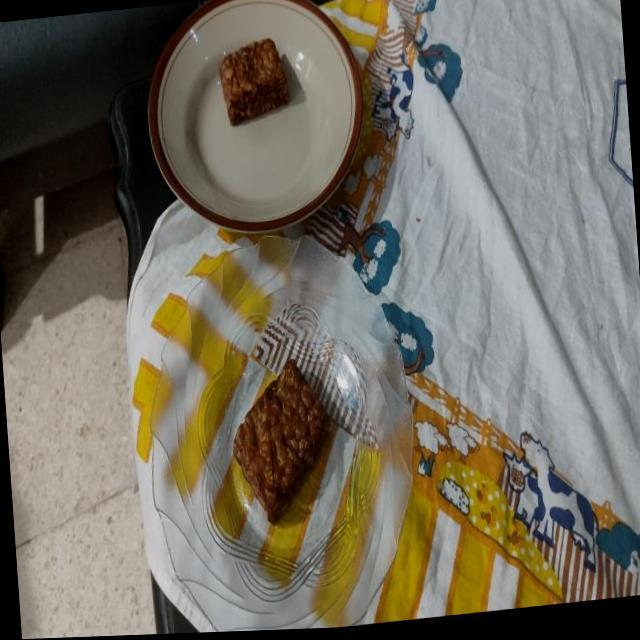tempe_goreng: (233, 360, 330, 522), (218, 39, 288, 124)
